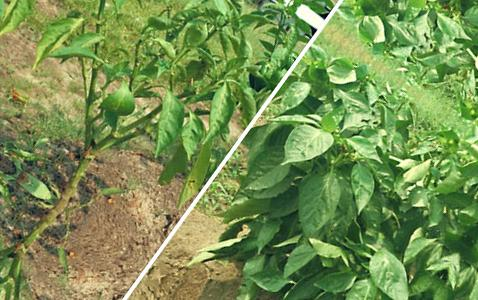Tomato leaf bacterial spot: (274, 150, 361, 241), (158, 127, 232, 213), (16, 0, 88, 82), (130, 89, 202, 166), (269, 110, 341, 185), (187, 74, 256, 151), (355, 243, 432, 300), (327, 158, 389, 223), (272, 228, 329, 291), (93, 79, 145, 135), (247, 256, 300, 300), (316, 277, 414, 300), (397, 223, 441, 271), (329, 274, 384, 300), (95, 0, 145, 16), (201, 0, 235, 22), (257, 288, 315, 300)
